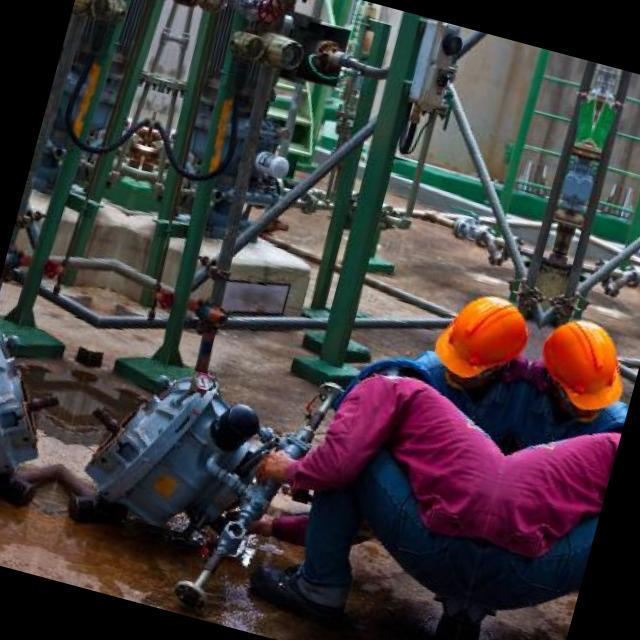helmet: (406, 268, 544, 417), (514, 297, 640, 445)
